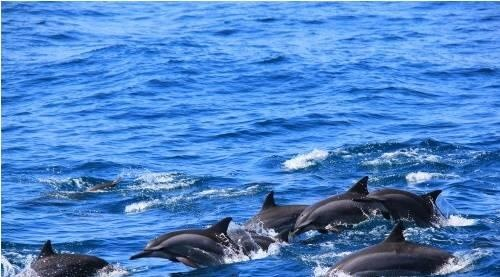fish: (290, 175, 398, 241), (327, 223, 453, 275), (124, 216, 243, 264)
